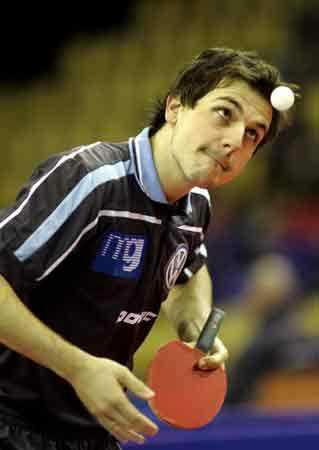ball: (266, 82, 296, 115)
